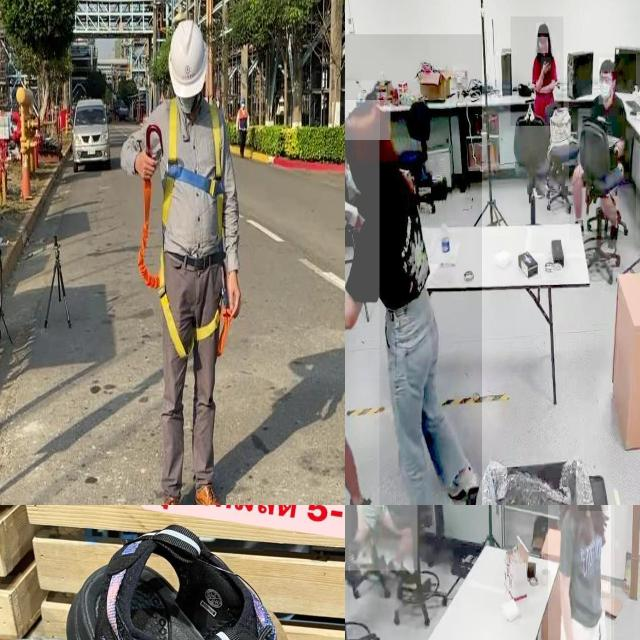Harness: (138, 181, 232, 360), (164, 100, 225, 242)
Sandals: (45, 515, 345, 640), (0, 574, 272, 640)
face_mask: (598, 74, 612, 105)
face_nomask: (537, 37, 549, 54)
hand_glove: (345, 188, 360, 243), (595, 609, 610, 640)
hand_noglove: (541, 58, 551, 72)
head_nohelmet: (345, 100, 391, 141), (599, 58, 615, 72), (536, 23, 549, 34)
person: (345, 34, 482, 505), (569, 54, 637, 240), (548, 505, 611, 640), (510, 17, 564, 126), (345, 505, 418, 571)
shoes: (443, 451, 482, 505)
